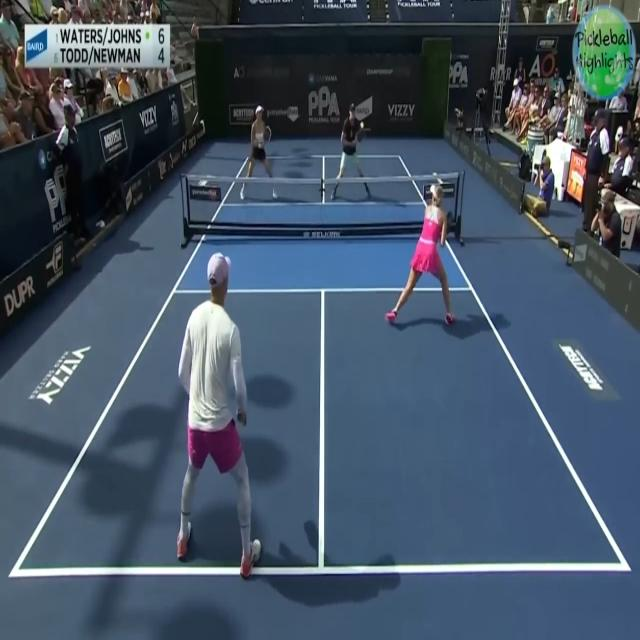Pickleball: (359, 119, 365, 127)
